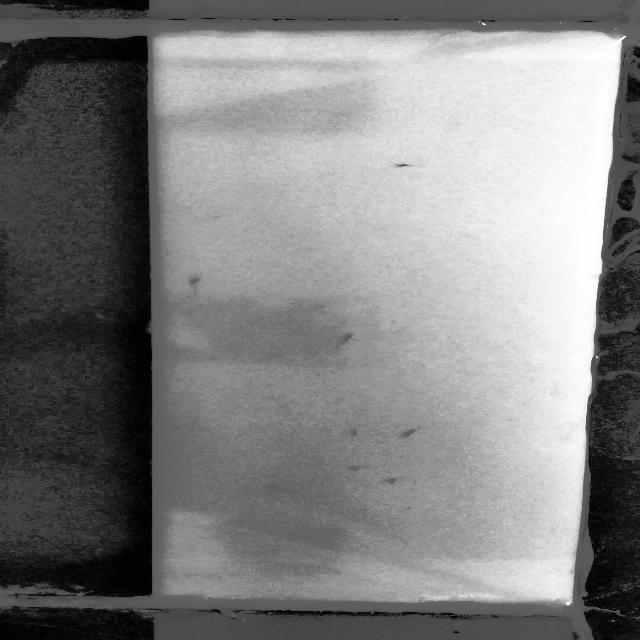shrimp: (256, 479, 296, 497), (382, 158, 428, 172), (332, 330, 367, 346), (180, 274, 224, 284), (342, 428, 373, 441), (398, 427, 422, 441), (344, 463, 374, 474), (385, 475, 412, 486)
